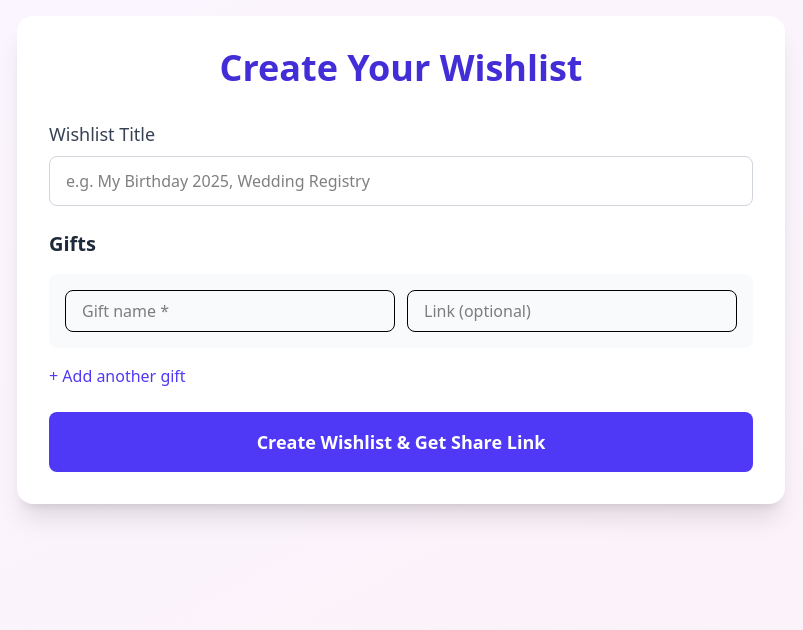
Test case: CreateWishlist Page › removes a gift when clicking Remove (when more than 1)
# Add one more gift first
Click the button "+ Add another gift".
click(117, 376)  # box [49,364,186,388]
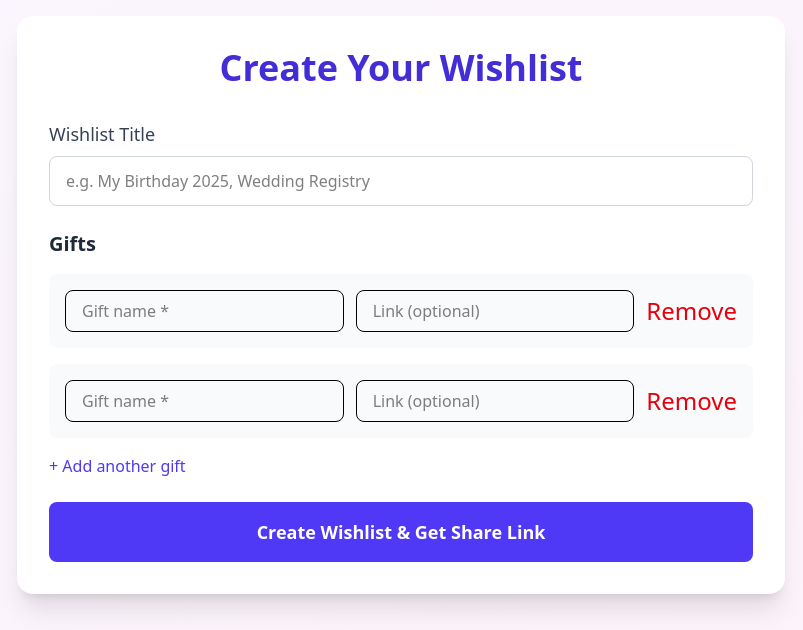
# Now click Remove on the second one
Click the 2nd button "Remove".
click(692, 401)  # box [646,380,737,422]
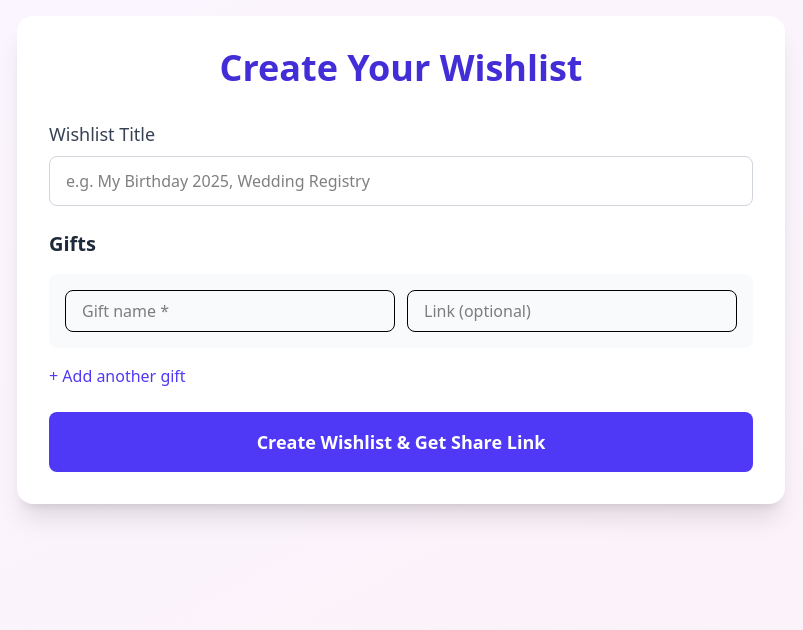
Result: the number of fields with placeholder "Gift name *" is 1 at [65,290,395,332]
